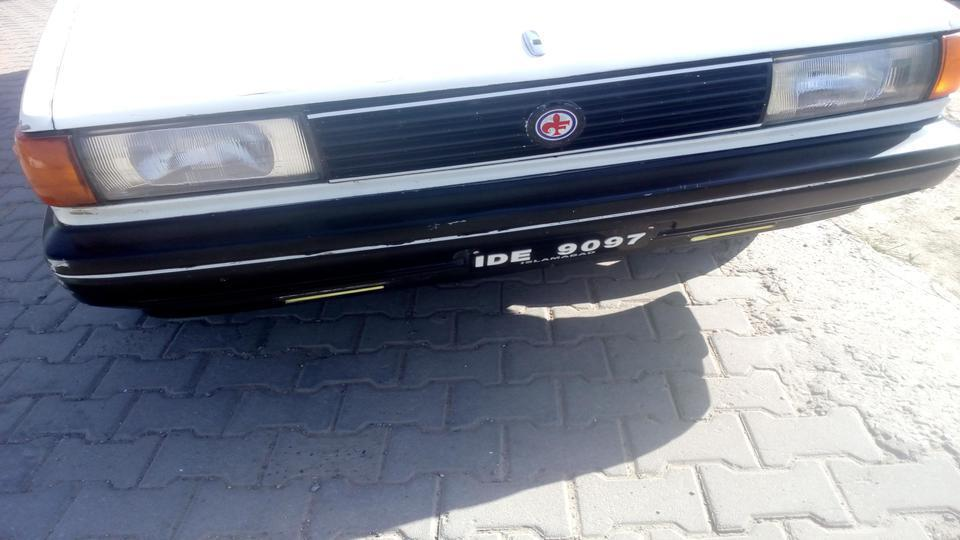NumberPlate: (464, 228, 653, 272)
